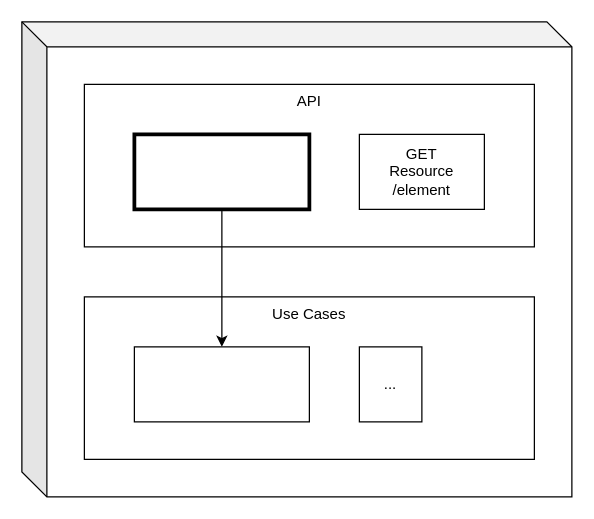
This 594x519 diagram has some shape labels left out. The shapes that lost their labels are listed below. From the top down, each one's centre as x and y in pixels, then its label:
At (x=221, y=171): "POST / books /{id} /borrow".
At (x=221, y=384): "UseCase BuchAusleihen".
